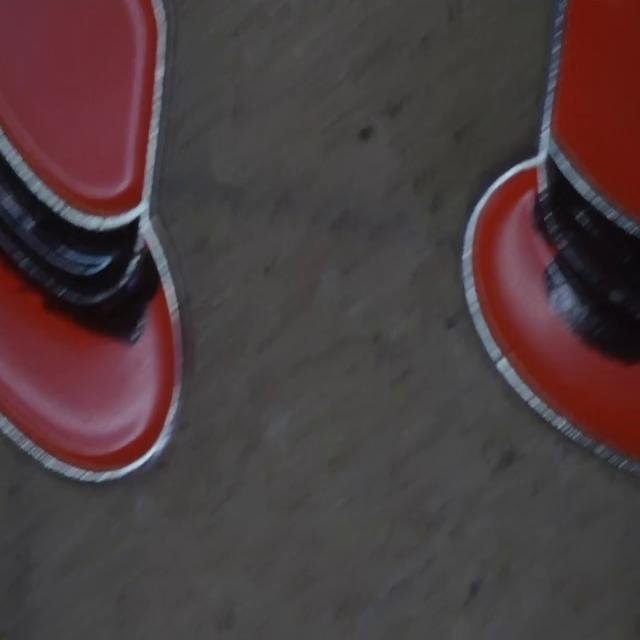Hatband: (0, 127, 145, 307), (536, 136, 640, 320)
Paint_Leak: (46, 247, 160, 344), (546, 258, 640, 362)
